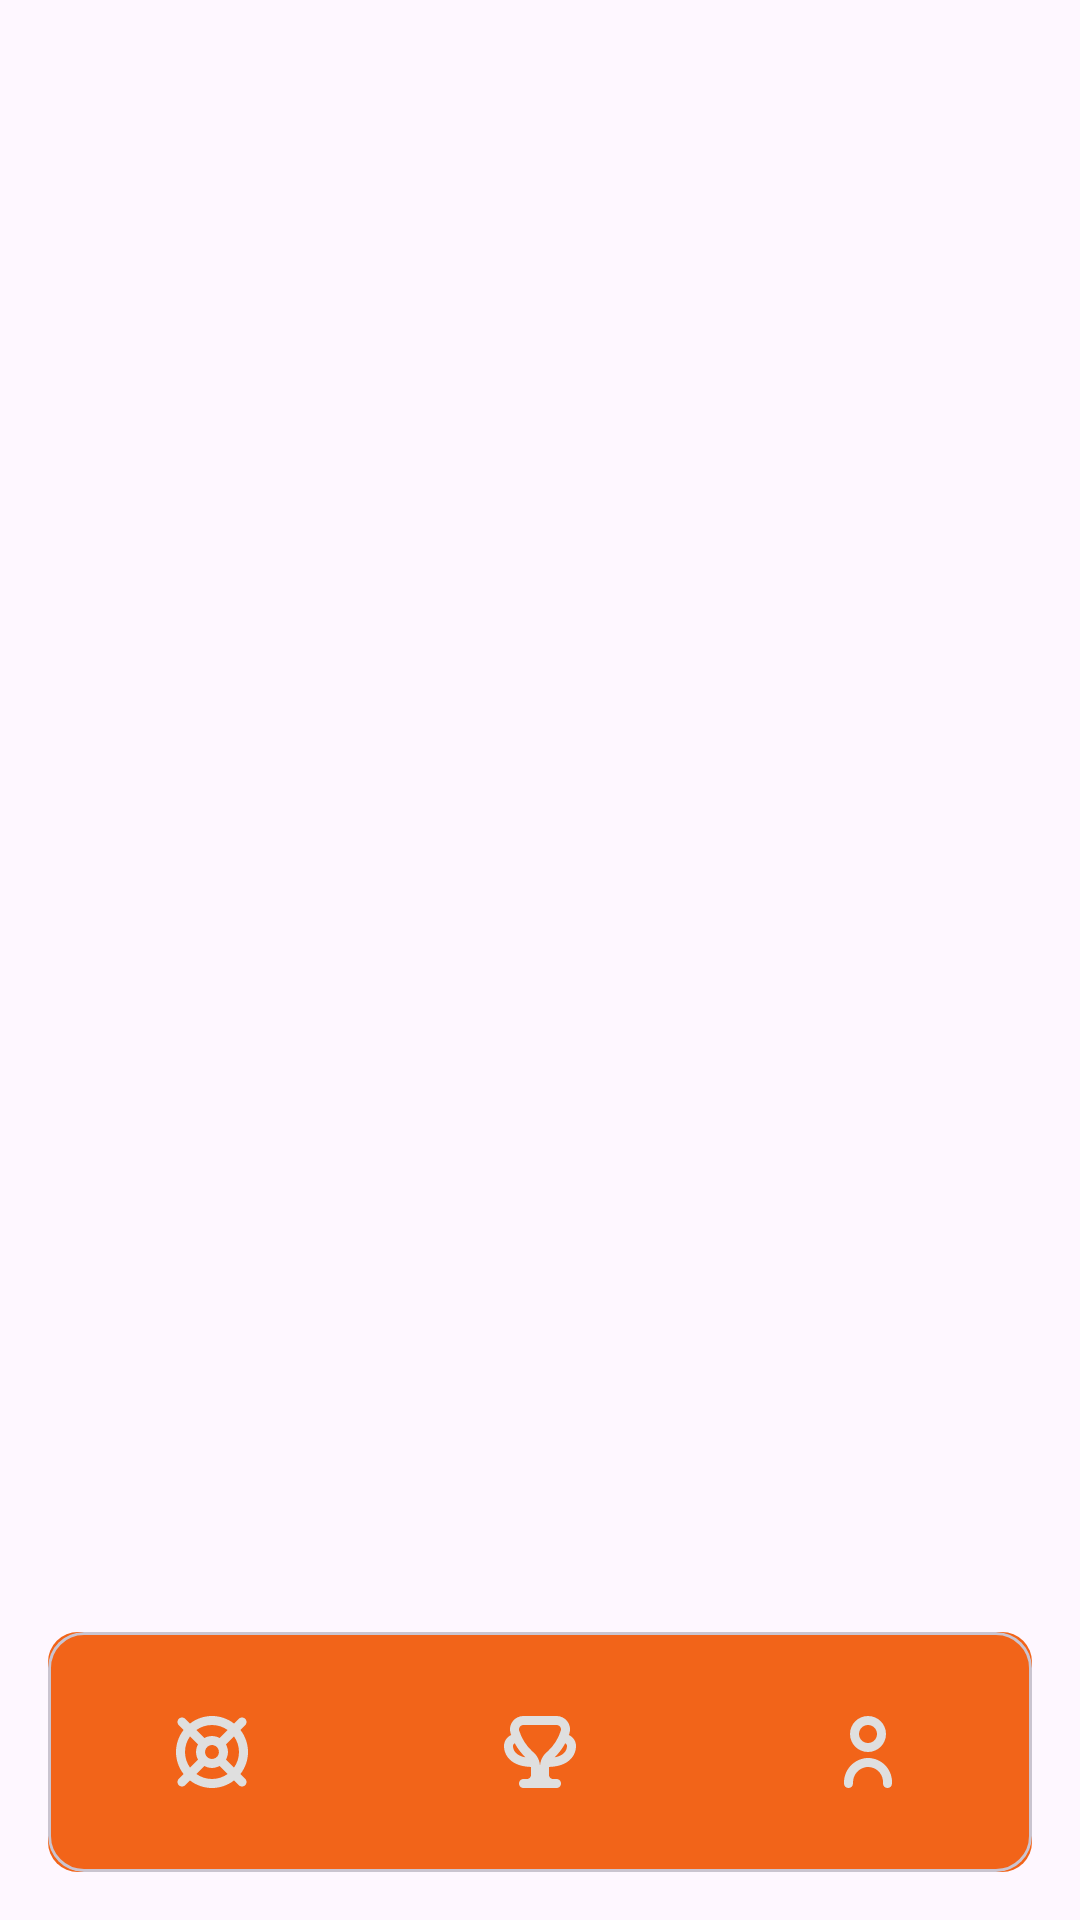

Icons on this 1080 × 1920 Android screen, each with its box as BBox(x1, y1, x2, y2):
trophy: BBox(504, 1716, 576, 1788)
user: BBox(844, 1716, 892, 1788)
